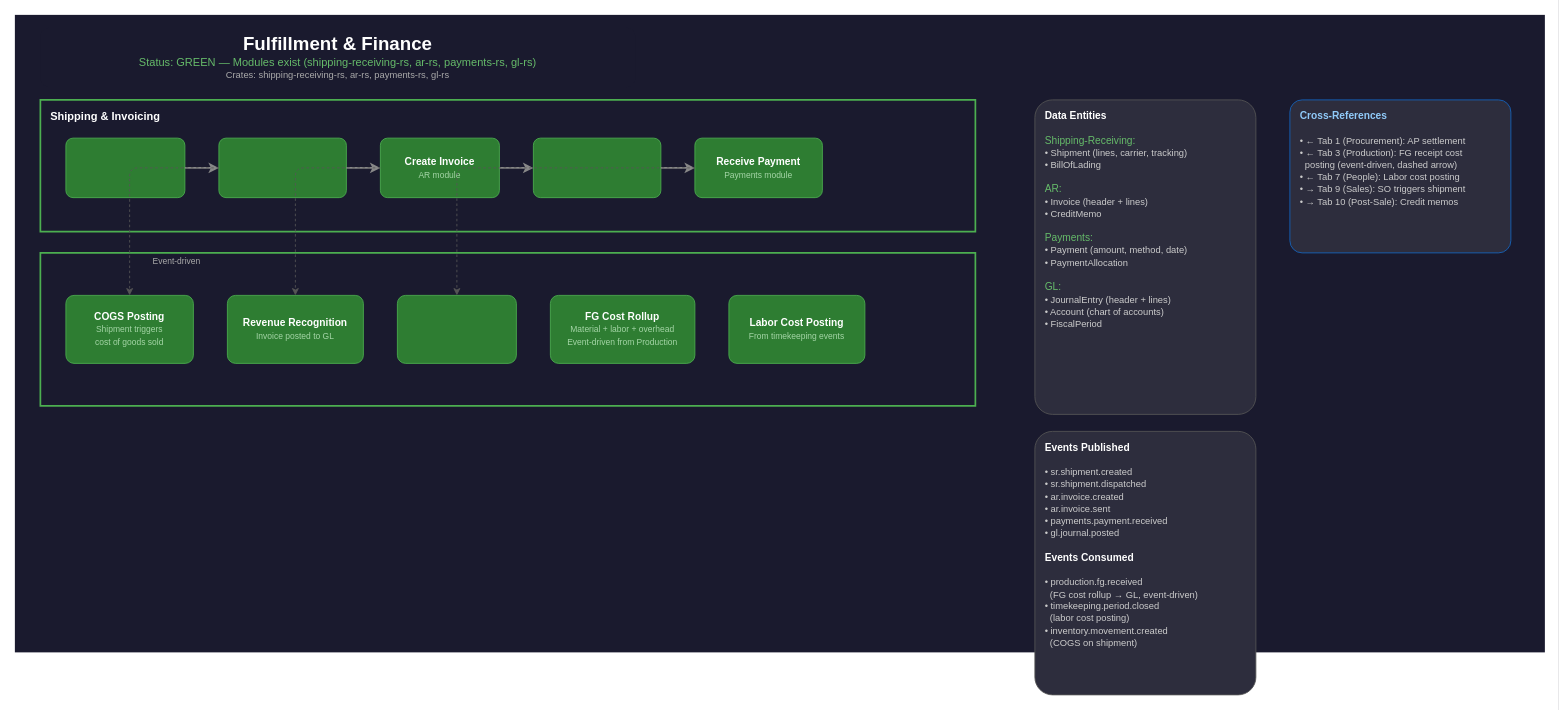
Some shapes in this 1559 by 710 pixel diagram are drawn without their labels. The shapes that lost their labels are listed below. From the top down, each one's box as (x1, y1, x2, y2) in pixels, then its label:
(65, 137, 185, 198): Pick & Pack Inventory allocation
(218, 137, 346, 198): Ship Goods S-R module, BOL, tracking
(533, 137, 661, 198): Send to Customer Email / portal
(397, 295, 516, 363): Cash Receipt Payment → GL
(39, 252, 976, 406): General Ledger & Cost Accounting
